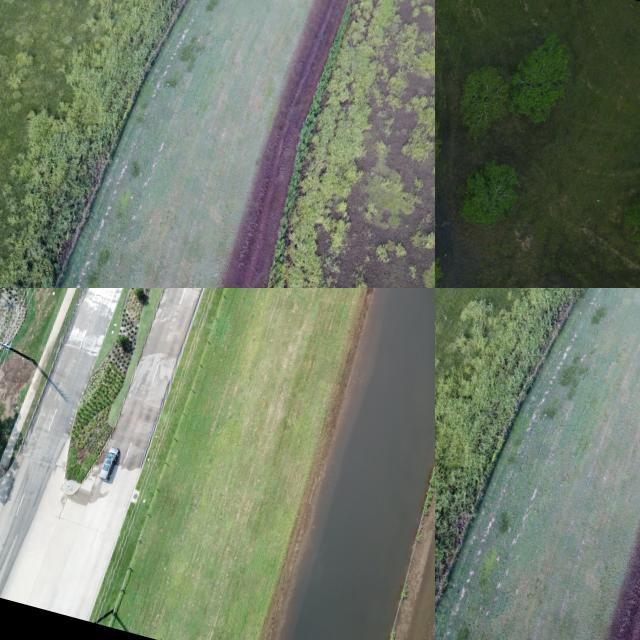fire: (285, 288, 435, 640)
